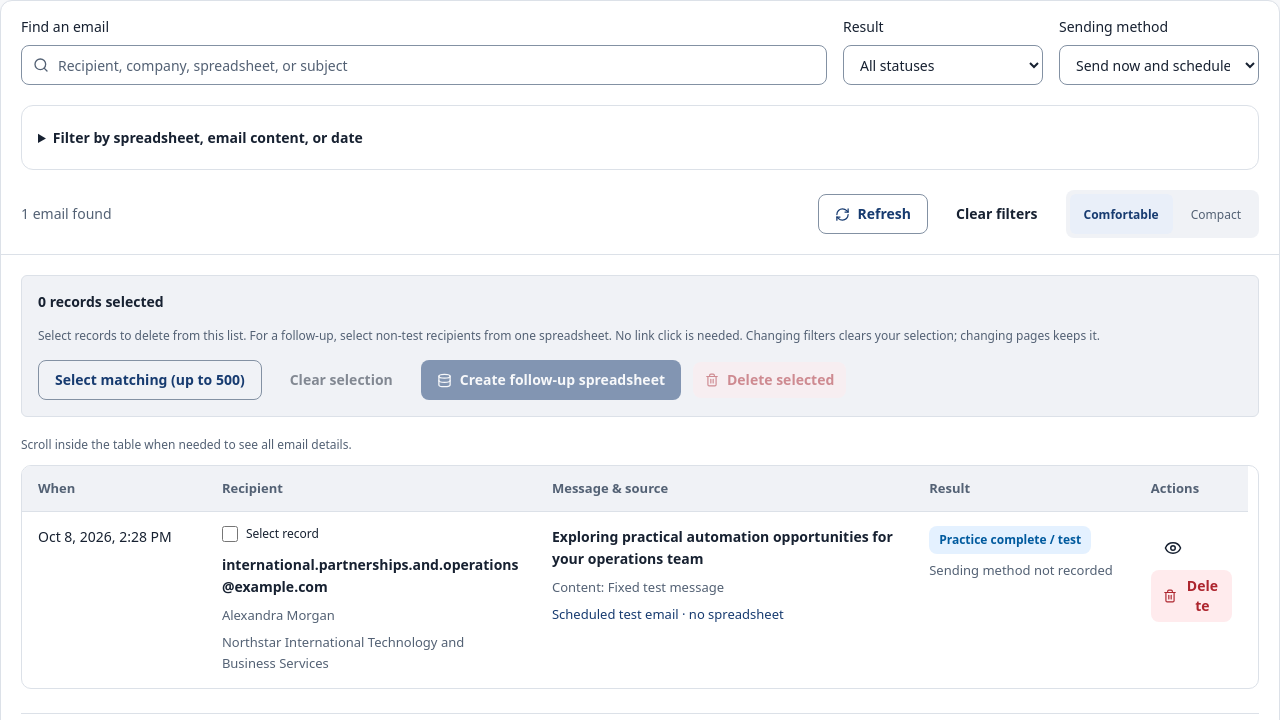
readable history › shows standalone scheduled tests without broken spreadsheet links or resend actions
Step 1. Click the button named "View full email to international.partnerships.and.operations@example.com" → [1173, 548], box x1=1151 y1=526 x2=1195 y2=570
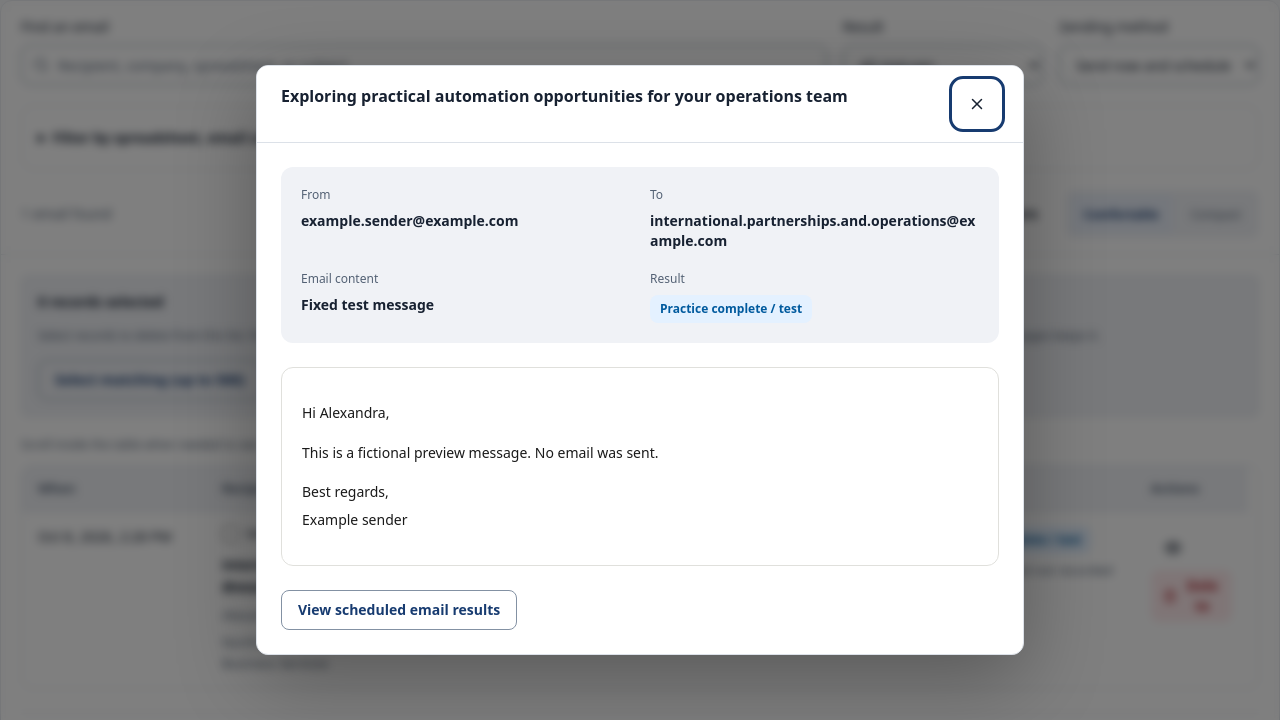
Check: the text "Fixed test message" is shown, box x1=301 y1=295 x2=434 y2=314
